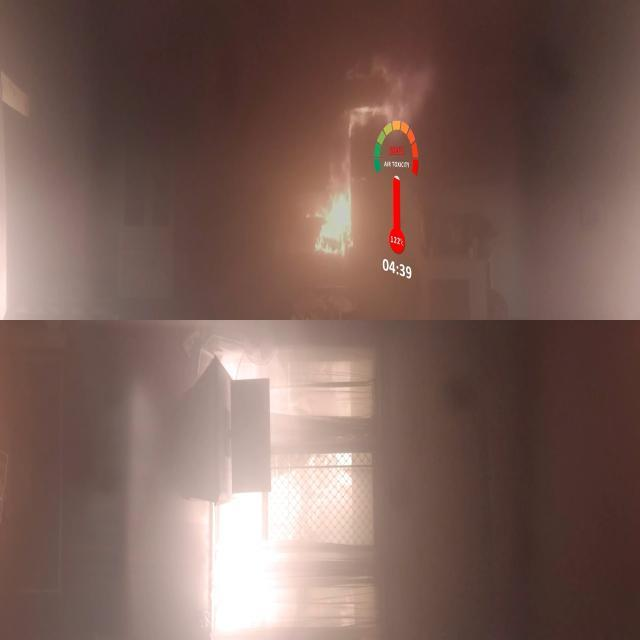Fire: (298, 86, 396, 276)
